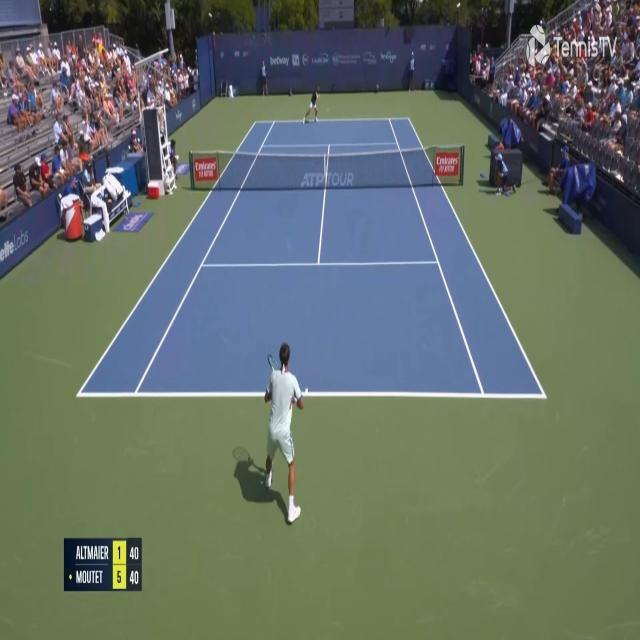tennis-player: (260, 337, 308, 525), (302, 84, 320, 125)
